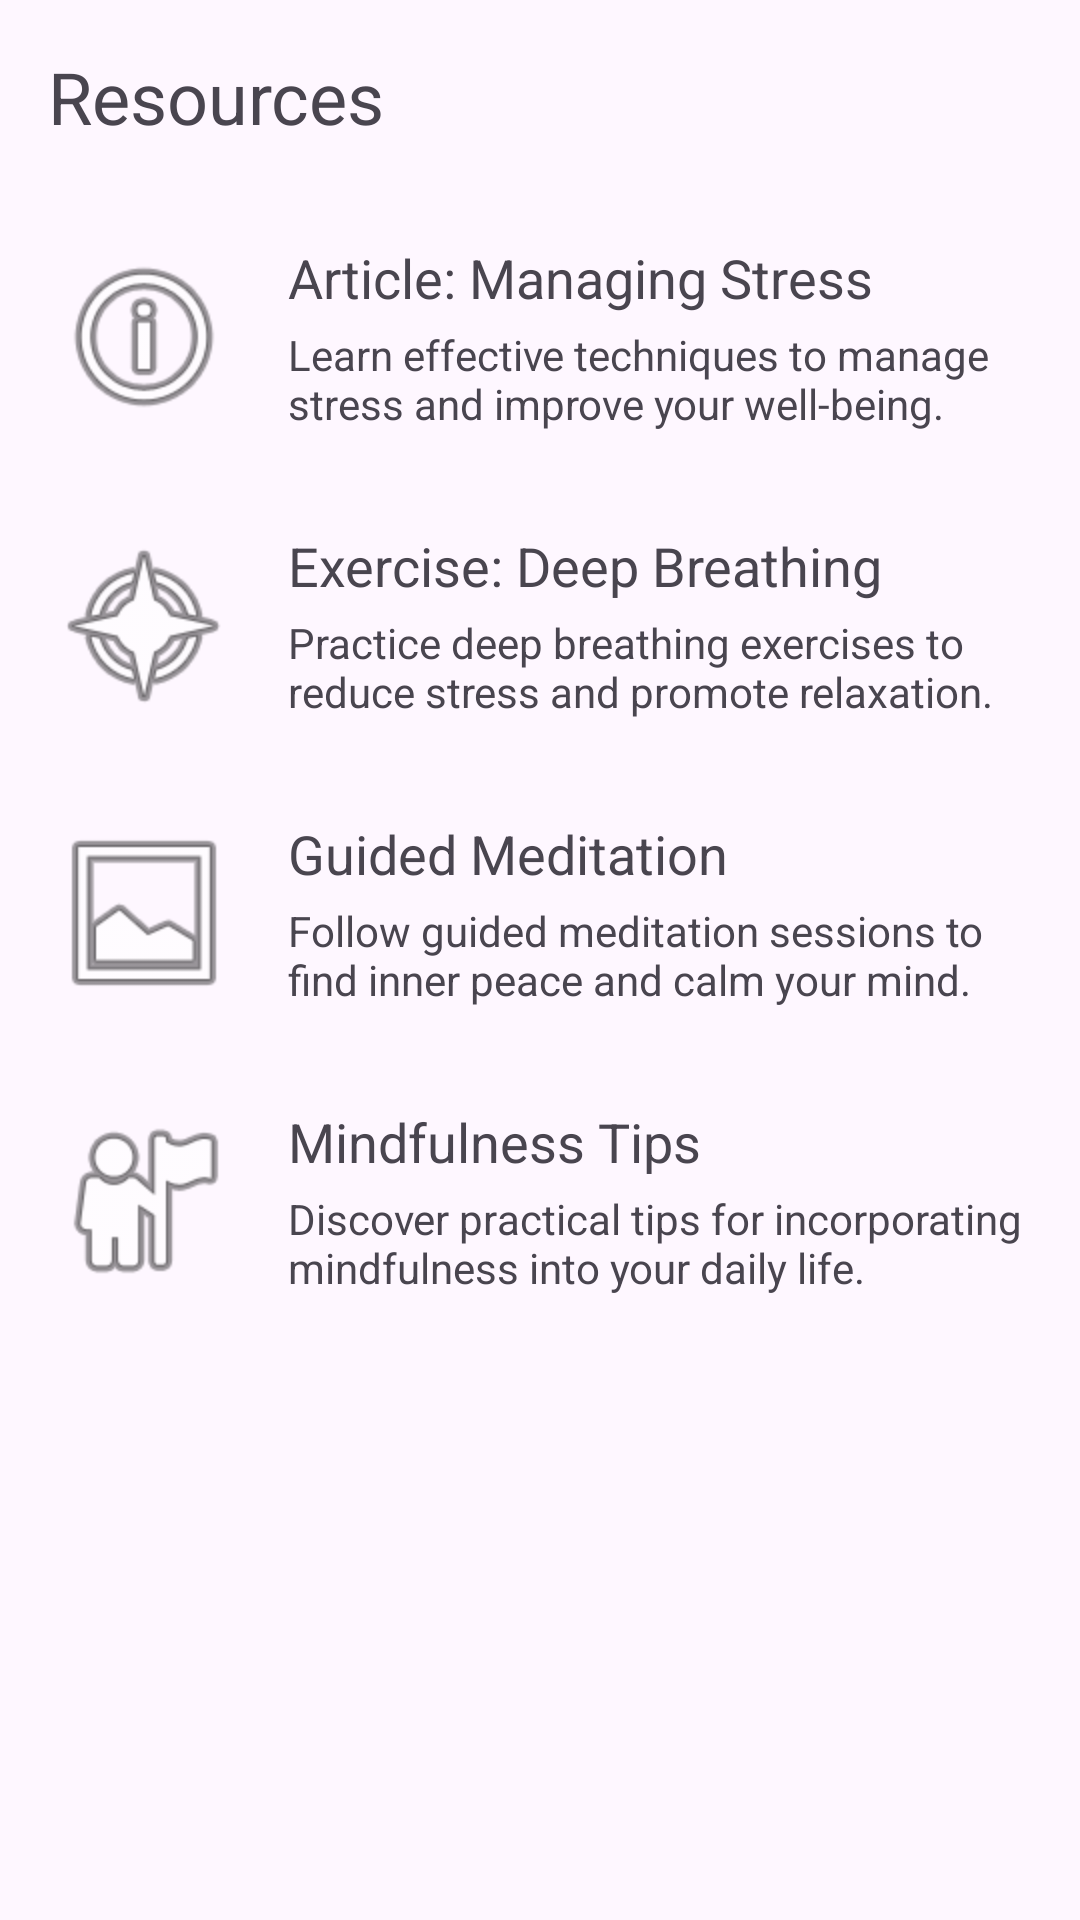

Where icons sit on this 1080 × 1920 app screen, as [x1,y1,x2,y2]:
compass: [67,550,219,702]
gallery: [72,840,216,986]
info details: [74,268,214,406]
